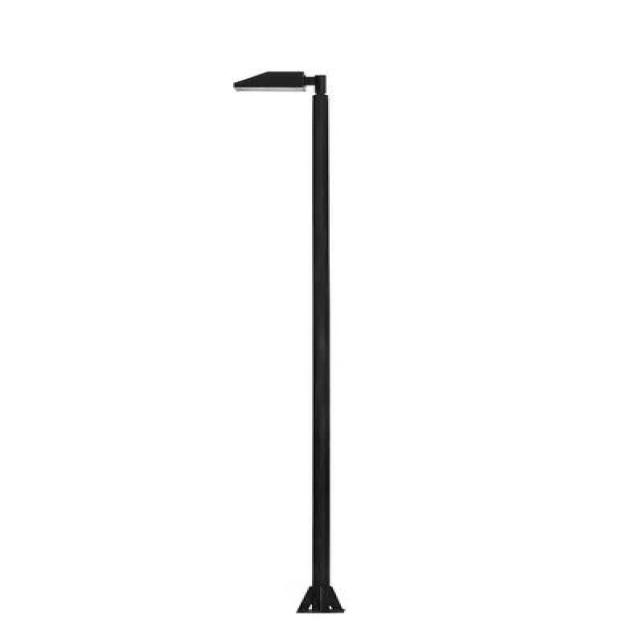Pole: (235, 71, 342, 614)
